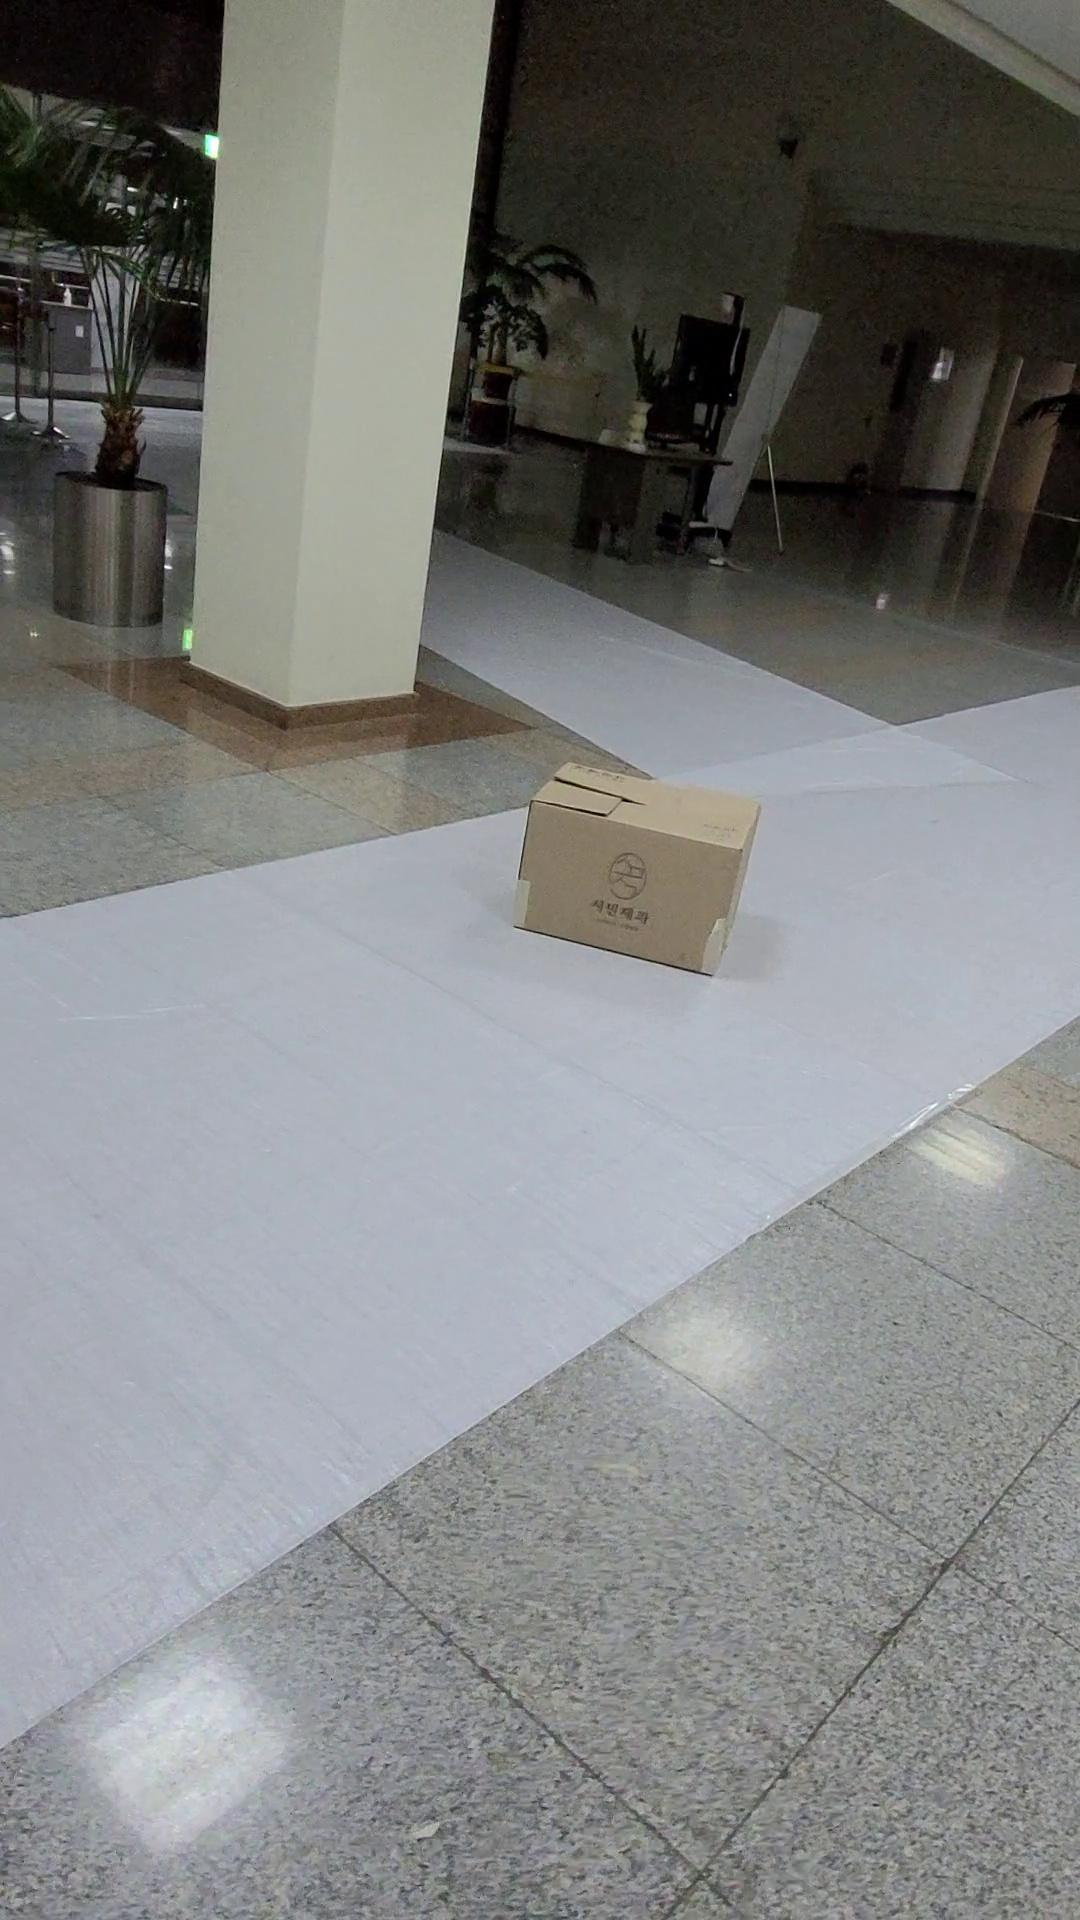Box: (498, 750, 767, 986)
